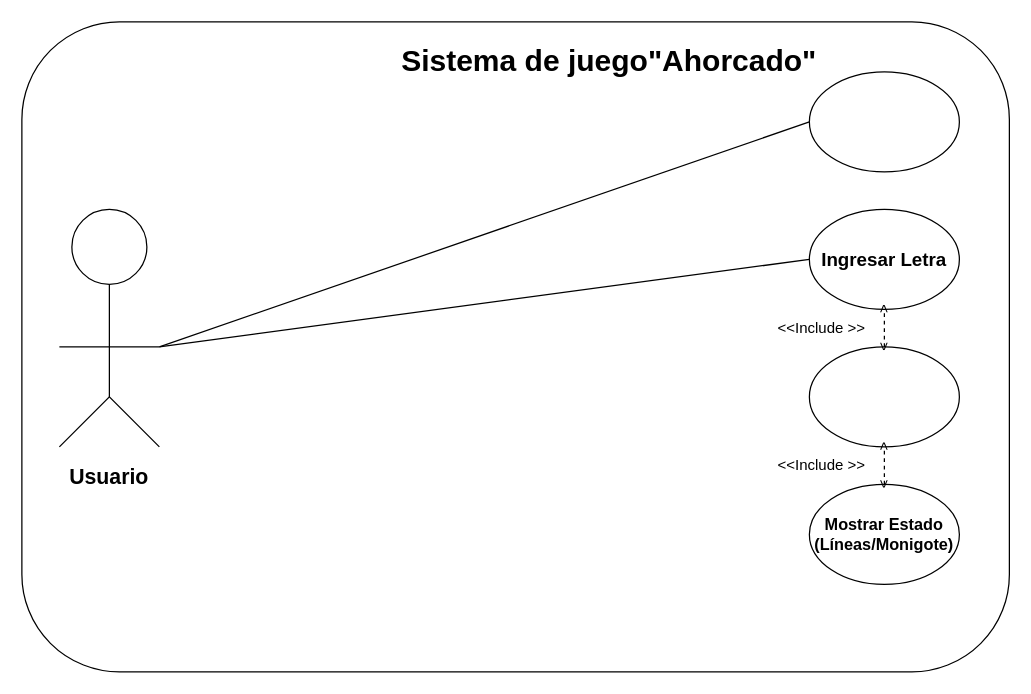
Some shapes in this 1031 by 694 pixel diagram are drawn without their labels. The centre of each missing label's shape, as x and y in pixels:
Iniciar partida: [883,121]
Validar Letra: [883,396]
